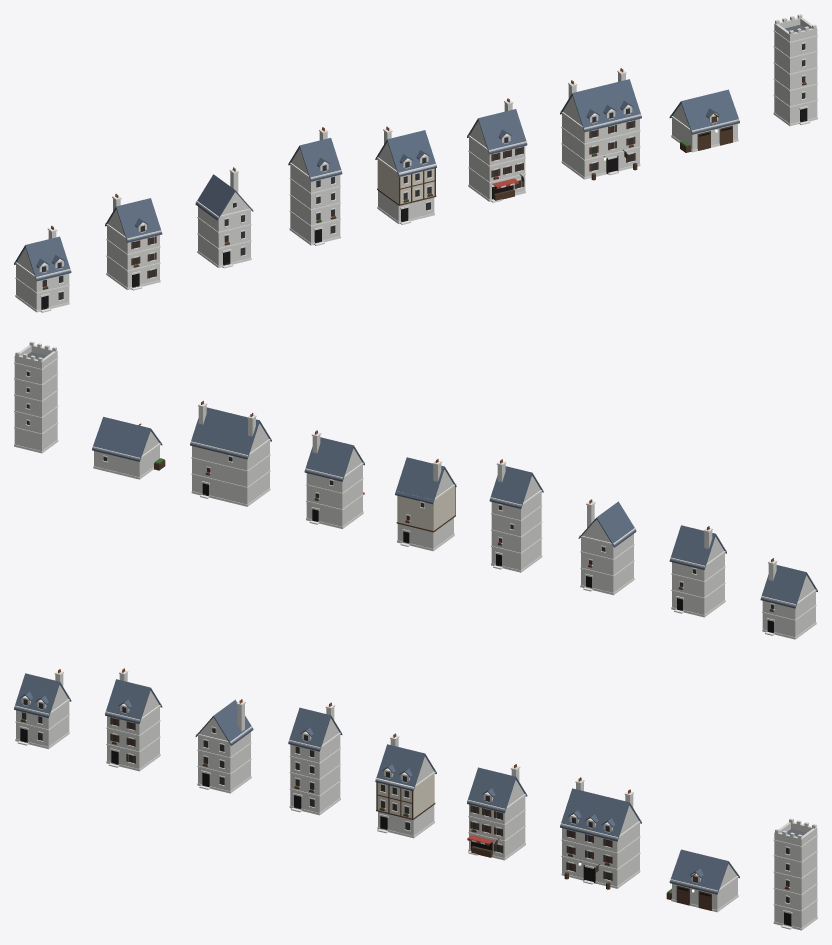
File: city-kit.glb
3 renders of one model, top to bottom at view 1: azimuth 30°, elevation 25°; view 2: azimuth 150°, elevation 25°; view 3: azimuth 330°, elevation 25°, orthographic.
Parts seen in each view (by area): view 1: tower-5_stone, inn-3_stone, house-4a_stone, house-3b_stone, inn-3_roof, house-3a_stone, shop-3_stone, house-2a_stone, stable-1_roof, shop-3_roof, house-3c_roof, house-3c_plaster (+15 smaller); view 2: tower-5_stone, inn-3_stone, house-4a_stone, shop-3_stone, house-3b_stone, house-3a_stone, inn-3_roof, house-2a_stone, stable-1_roof, house-3c_plaster, house-3c_roof, shop-3_roof (+12 smaller); view 3: tower-5_stone, inn-3_stone, house-4a_stone, house-3b_stone, inn-3_roof, house-3a_stone, shop-3_stone, house-2a_stone, stable-1_roof, shop-3_roof, house-3c_roof, house-3c_plaster (+17 smaller).
Boxes of the visible parts, bbox=[...] form: tower-5_stone: bbox=[774, 14, 817, 123]; inn-3_stone: bbox=[562, 73, 639, 177]; house-4a_stone: bbox=[290, 132, 340, 242]; house-3b_stone: bbox=[198, 172, 250, 265]; inn-3_roof: bbox=[560, 79, 641, 132]; house-3a_stone: bbox=[107, 198, 159, 287]; shop-3_stone: bbox=[469, 103, 525, 199]; house-2a_stone: bbox=[16, 230, 69, 309]; stable-1_roof: bbox=[669, 89, 739, 134]; shop-3_roof: bbox=[467, 109, 527, 154]; house-3c_roof: bbox=[375, 130, 436, 176]; house-3c_plaster: bbox=[377, 159, 435, 204]; tower-5_stone: bbox=[14, 341, 57, 450]; inn-3_stone: bbox=[192, 405, 269, 504]; house-4a_stone: bbox=[491, 464, 541, 570]; shop-3_stone: bbox=[306, 435, 362, 526]; house-3b_stone: bbox=[581, 504, 633, 592]; house-3a_stone: bbox=[672, 530, 724, 614]; inn-3_roof: bbox=[190, 407, 271, 459]; house-2a_stone: bbox=[762, 562, 815, 637]; stable-1_roof: bbox=[92, 417, 162, 461]; house-3c_plaster: bbox=[397, 485, 454, 530]; house-3c_roof: bbox=[395, 457, 456, 504]; shop-3_roof: bbox=[304, 437, 364, 481]; tower-5_stone: bbox=[774, 818, 817, 928]; inn-3_stone: bbox=[562, 782, 639, 886]; house-4a_stone: bbox=[290, 707, 340, 812]; house-3b_stone: bbox=[198, 704, 250, 791]; inn-3_roof: bbox=[560, 788, 641, 841]; house-3a_stone: bbox=[107, 673, 159, 768]; shop-3_stone: bbox=[469, 769, 525, 857]; house-2a_stone: bbox=[16, 674, 69, 746]; stable-1_roof: bbox=[669, 849, 739, 894]; shop-3_roof: bbox=[467, 767, 527, 812]; house-3c_roof: bbox=[375, 744, 436, 791]; house-3c_plaster: bbox=[377, 774, 434, 818].
Size of the model in its own units: 121 by 14.87 by 7.87.
